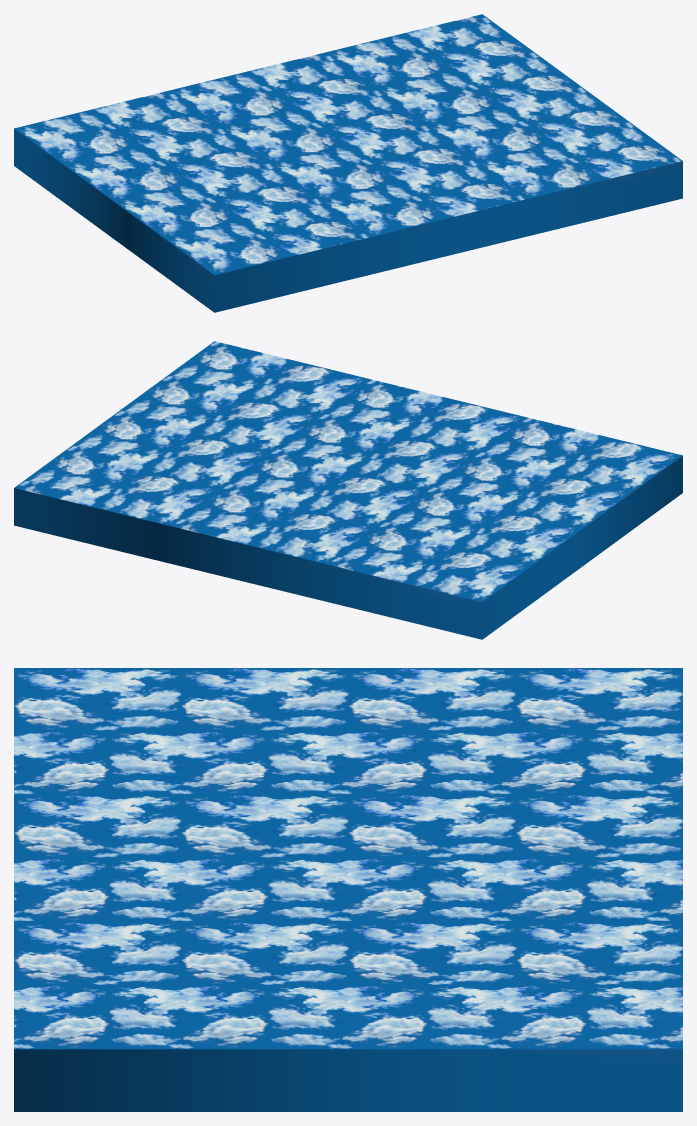
File: beta.fbx
3 views of the same model, one above another, from view 1: azimuth 30°, elevation 25°; view 2: azimuth 150°, elevation 25°; view 3: azimuth 270°, elevation 25° (orthographic). The views are drawn at different scales.
Parts seen in each view (by area): view 1: SSChaoGarden; view 2: SSChaoGarden; view 3: SSChaoGarden.
Boxes of the visible parts, left/top/right/bottom form: SSChaoGarden: left=14, top=14, right=682, bottom=312; SSChaoGarden: left=14, top=341, right=682, bottom=639; SSChaoGarden: left=14, top=668, right=682, bottom=1111.
Size of the model in its own units: 485666 by 37209 by 360274.
